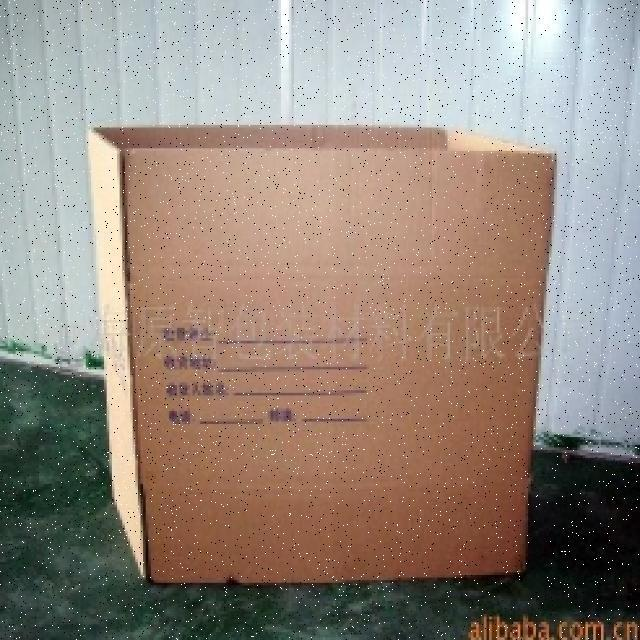box: (78, 88, 574, 600)
